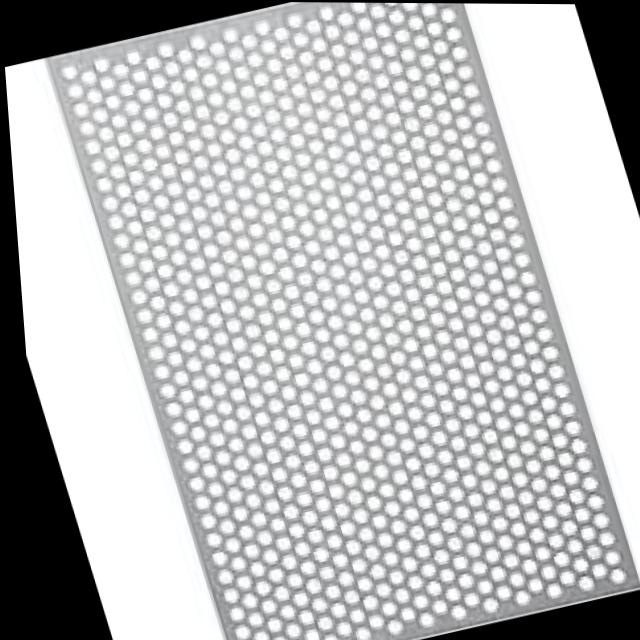Dry: (48, 2, 632, 640)
